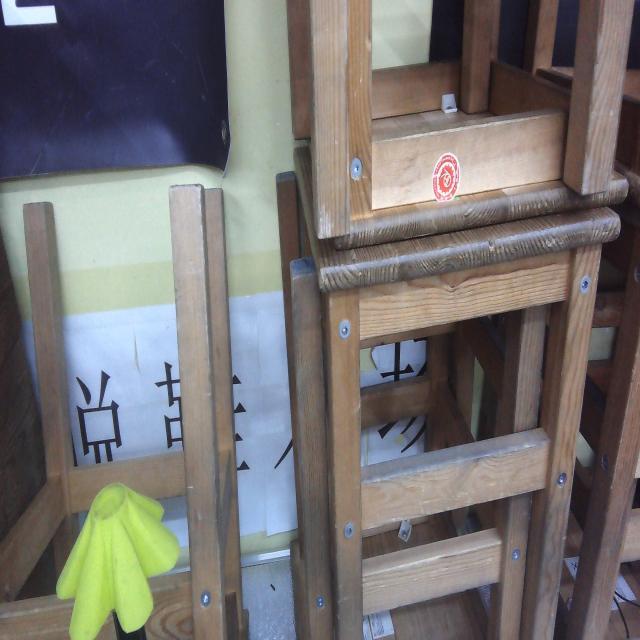Yellow-Stake-Head: (56, 482, 180, 640)
